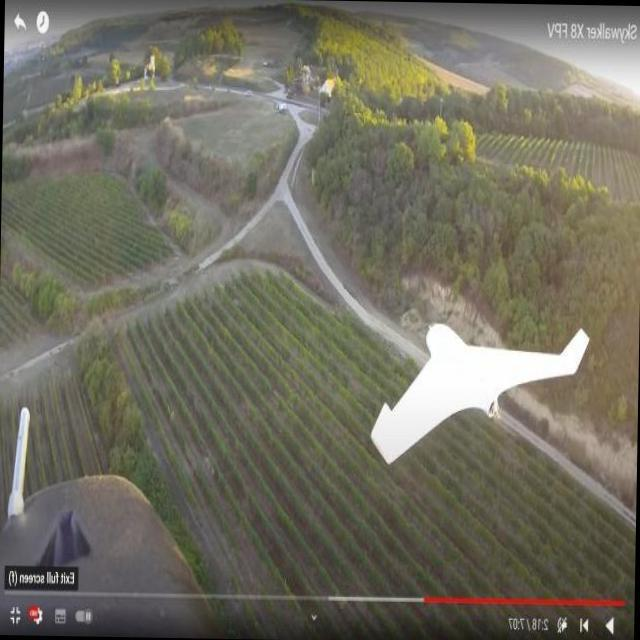iha: (328, 308, 578, 459)
